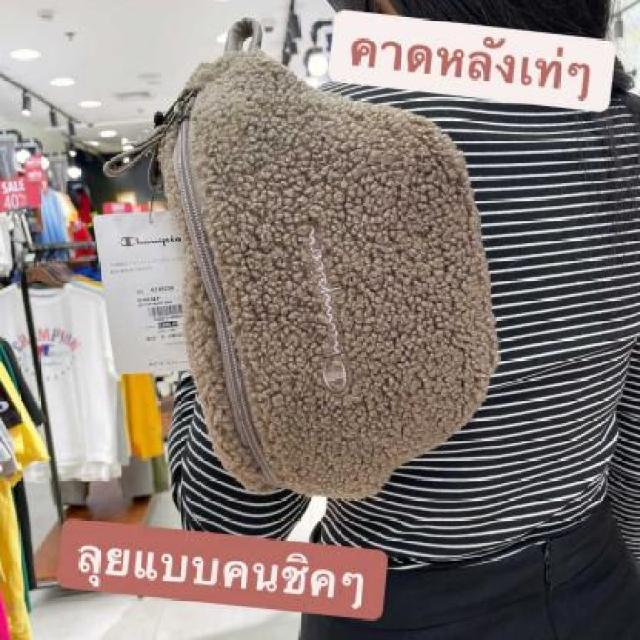Bag: (125, 16, 517, 498)
